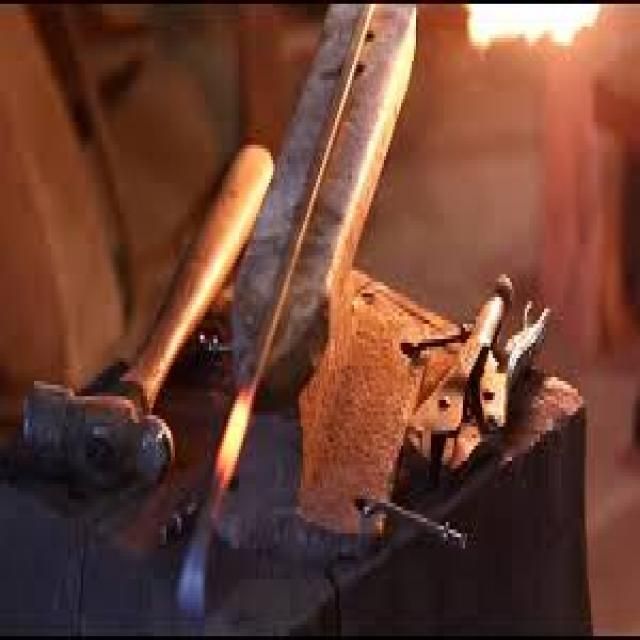hammer: (12, 120, 290, 501)
